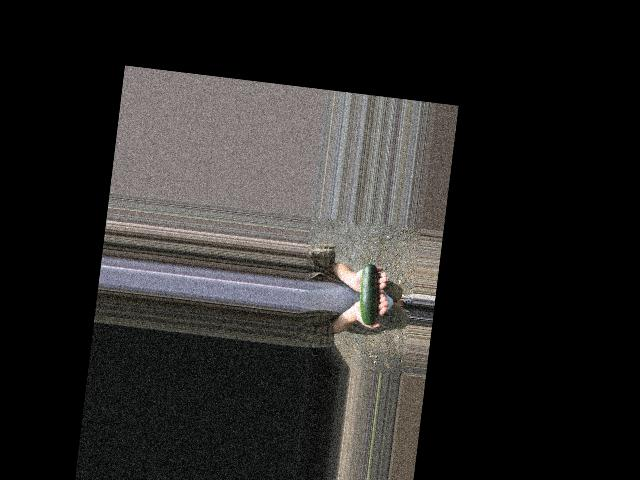cucumber: (356, 255, 383, 325)
